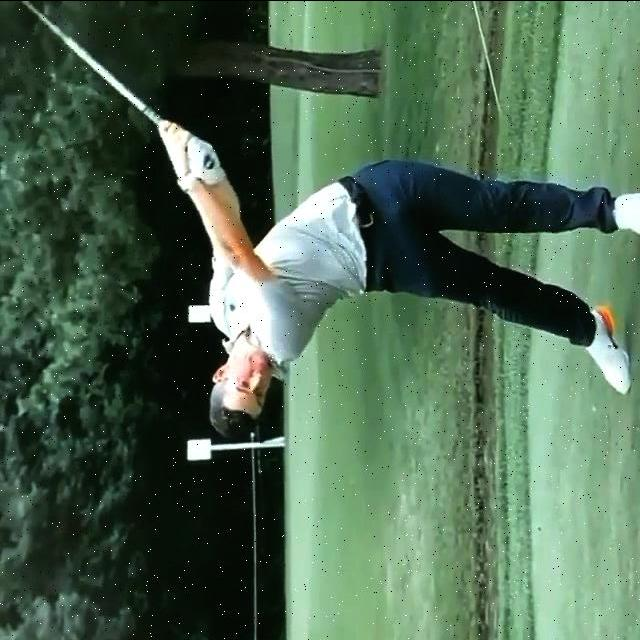golf club-handle: (21, 0, 217, 167)
